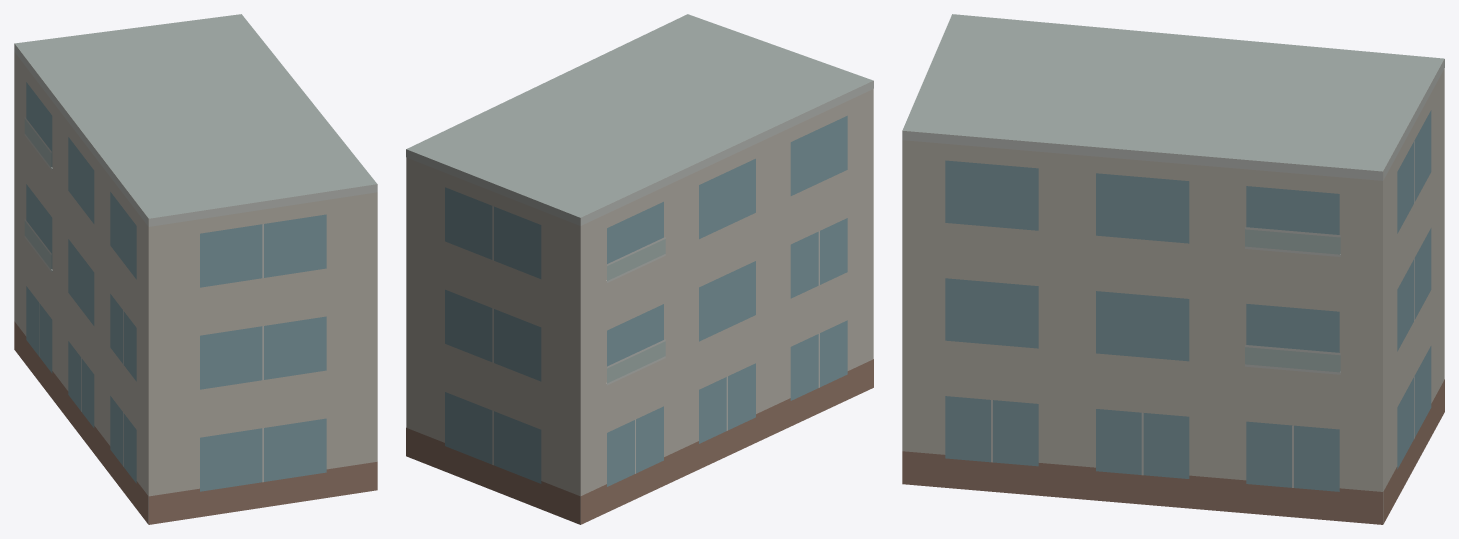
File: survey-upis-32541235.glb
The picture shows the model from 3 angles, left to right: view 1: azimuth 30°, elevation 25°; view 2: azimuth 150°, elevation 25°; view 3: azimuth 270°, elevation 25°; orthographic projection. The views are drawn at different scales.
Parts seen in each view (by area): view 1: survey-upis-32541235.tmp; view 2: survey-upis-32541235.tmp; view 3: survey-upis-32541235.tmp.
Boxes of the visible parts, x1,y1,x2,y2 form: survey-upis-32541235.tmp: (14,14,377,524); survey-upis-32541235.tmp: (406,14,873,524); survey-upis-32541235.tmp: (902,14,1444,524).
Size of the model in its own units: 8.76 by 9.15 by 12.74.
